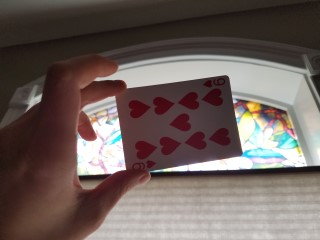NineOfHearts: (116, 75, 243, 173)
